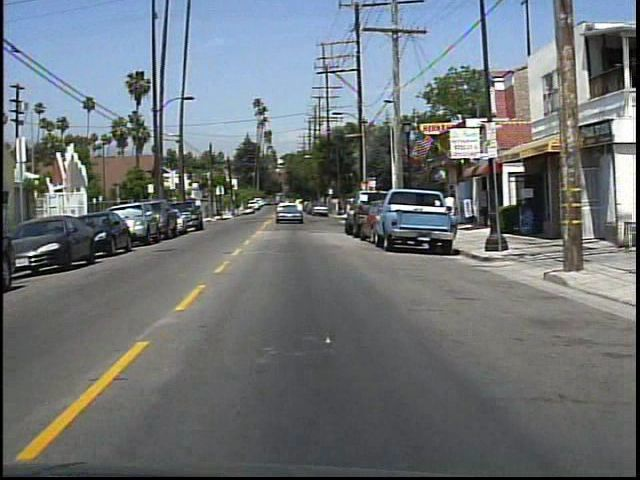person: (441, 189, 461, 231)
